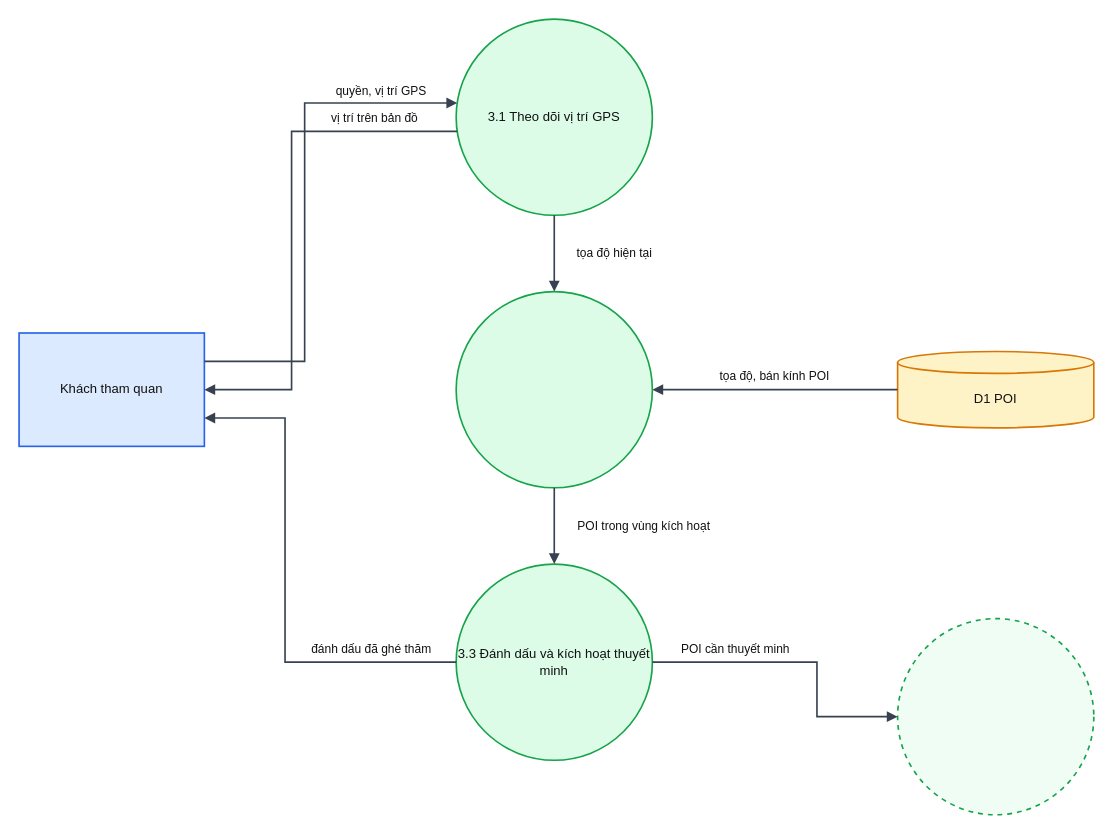
The diagram is 1114 pixels wide and 835 high, and some of its shapes have lost their labels. Each missing label, with the centre of its shape:
"3.2 Kiểm tra khoảng cách Geofencing" goes at point 554,389.
"5.0 Nghe thuyết minh TTS" goes at point 995,716.
